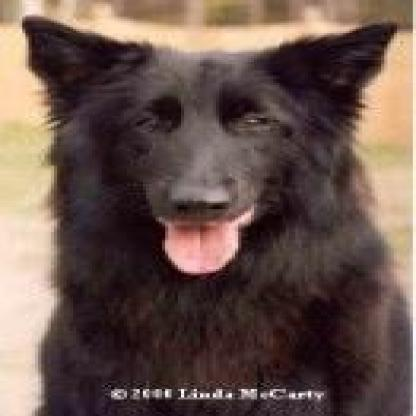groenendael: (16, 14, 410, 412)
